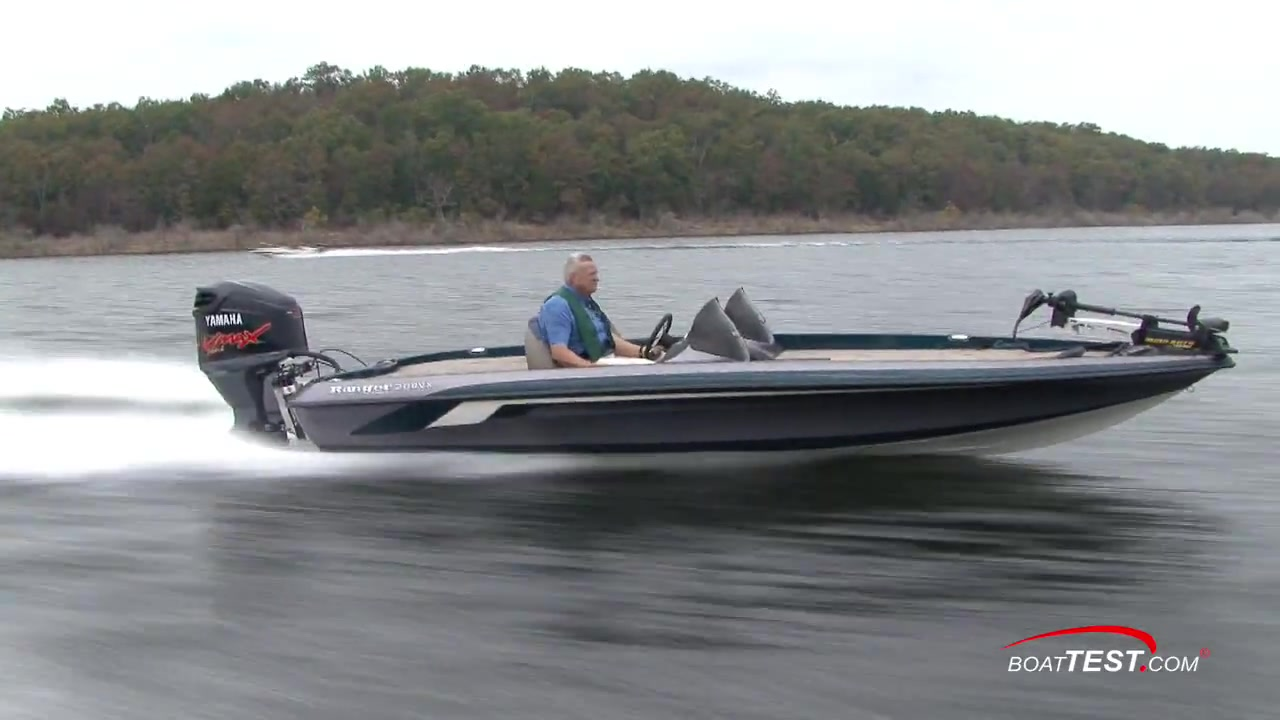boat: (187, 277, 1242, 471)
